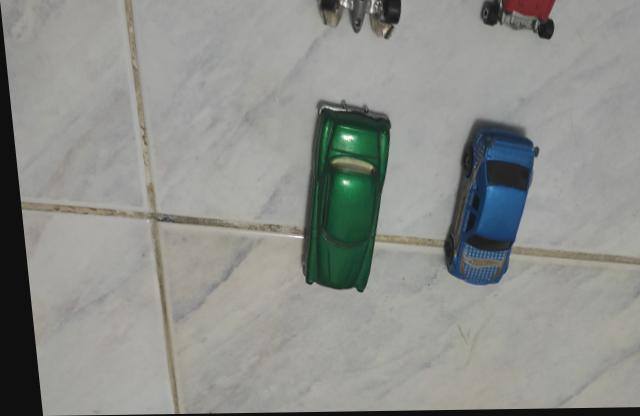03_V8: (478, 0, 558, 41)
04_MERZEDES: (437, 120, 537, 287)
05_DC121: (316, 0, 403, 42)
06_MASERATI: (295, 102, 390, 292)
